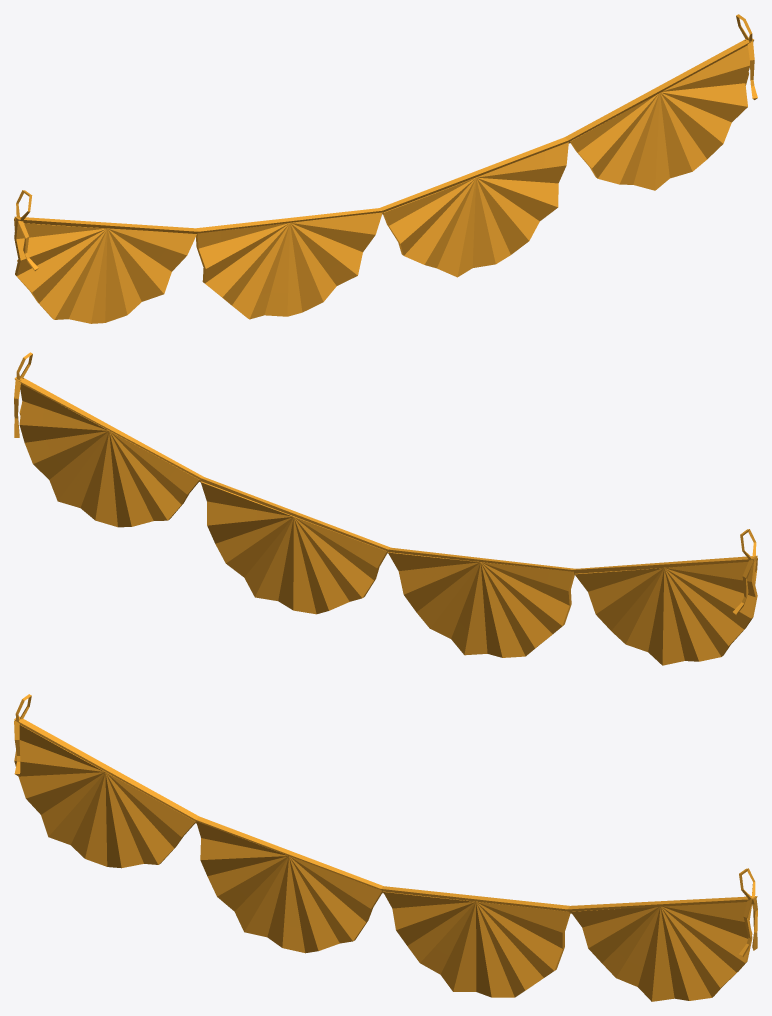
File: SM_Garland_Round_2m_4july.fbx
3 views of the same model, one above another, from view 1: azimuth 30°, elevation 25°; view 2: azimuth 150°, elevation 25°; view 3: azimuth 330°, elevation 25° (orthographic).
Parts seen in each view (by area): view 1: garland-round-2m-4july; view 2: garland-round-2m-4july; view 3: garland-round-2m-4july.
Boxes of the visible parts, bbox=[...] form: garland-round-2m-4july: bbox=[14, 14, 757, 323]; garland-round-2m-4july: bbox=[14, 352, 757, 665]; garland-round-2m-4july: bbox=[14, 694, 757, 1001].
Size of the model in its own units: 2 by 0.4937 by 0.092.
